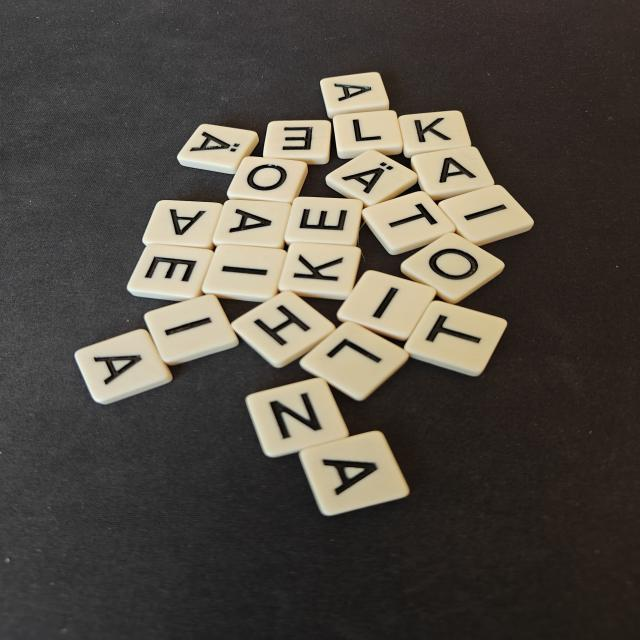a: (299, 431, 409, 516), (75, 329, 172, 404), (411, 147, 494, 200), (142, 200, 222, 249), (213, 200, 291, 249), (320, 72, 389, 118)
a_dot: (326, 150, 417, 206), (177, 124, 259, 174)
e: (127, 244, 213, 301), (285, 197, 363, 245), (263, 120, 331, 165)
h: (231, 292, 335, 368)
i: (337, 270, 436, 341), (144, 295, 239, 365), (439, 185, 533, 246), (202, 244, 286, 302)
k: (278, 242, 361, 300), (398, 110, 471, 158)
l: (300, 321, 409, 401), (333, 110, 403, 159)
n: (245, 378, 349, 457)
o: (400, 232, 505, 303), (227, 156, 308, 204)
t: (404, 301, 507, 376), (363, 191, 455, 255)
